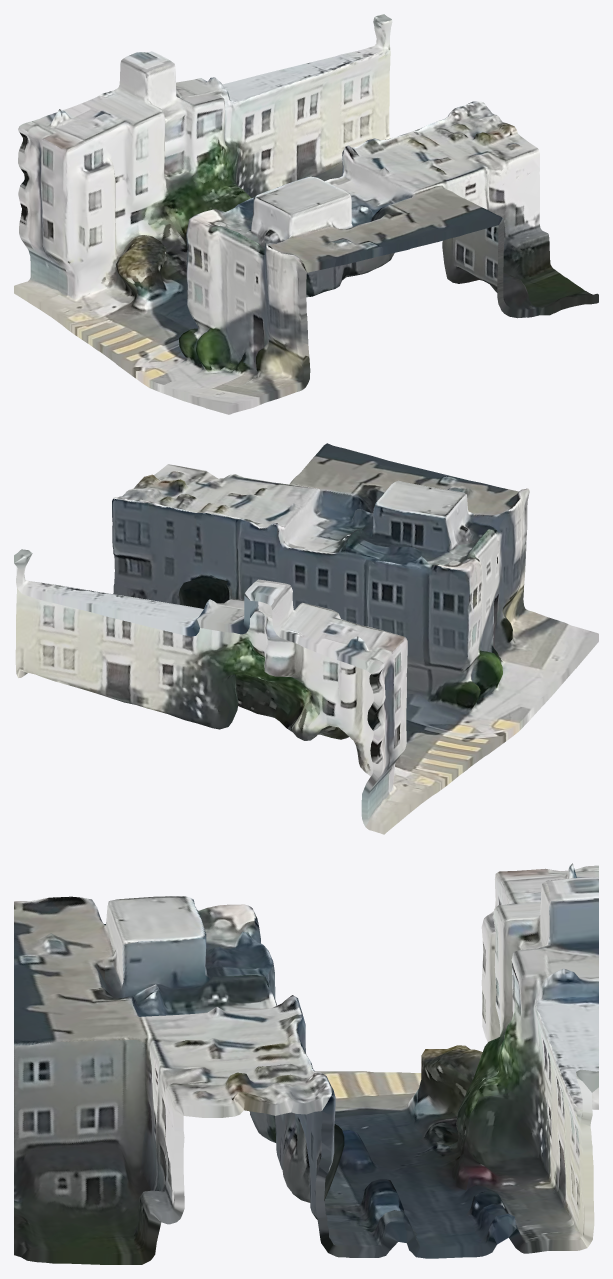
The model's file is z20-167749-405197-h0-yup-uvflip-v3-world.glb.
3 renders of one model, top to bottom at view 1: azimuth 30°, elevation 25°; view 2: azimuth 150°, elevation 25°; view 3: azimuth 270°, elevation 25°, orthographic. The views are drawn at different scales.
Size of the model in its own units: 30.16 by 16.44 by 30.32.
1 material, 1 textured.
